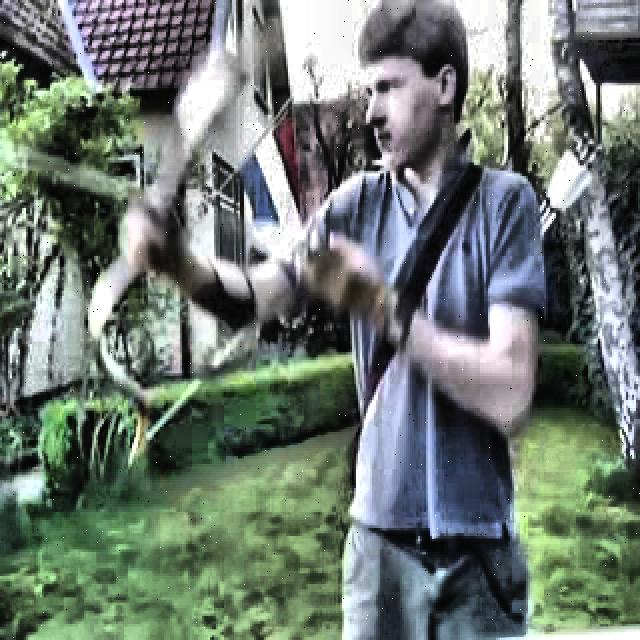P: (125, 6, 544, 634)
